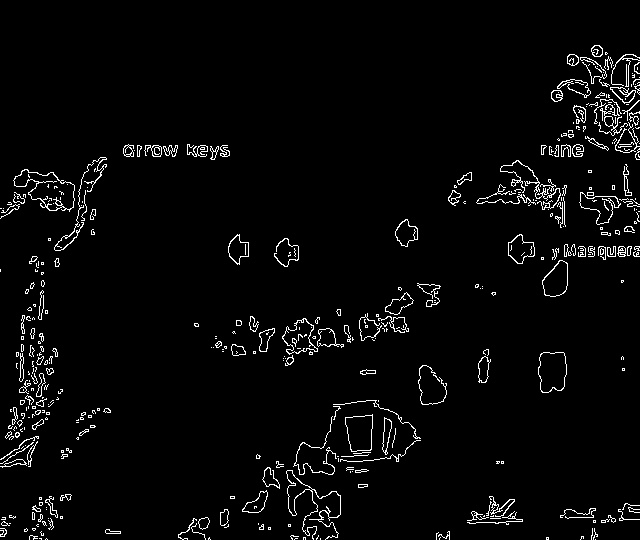left: (493, 228, 540, 269), (217, 227, 256, 270), (267, 234, 308, 273), (386, 217, 427, 254)
